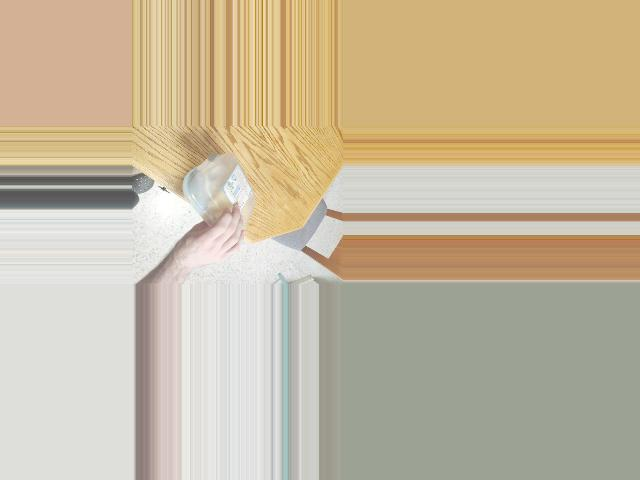cheese: (184, 150, 259, 244)
